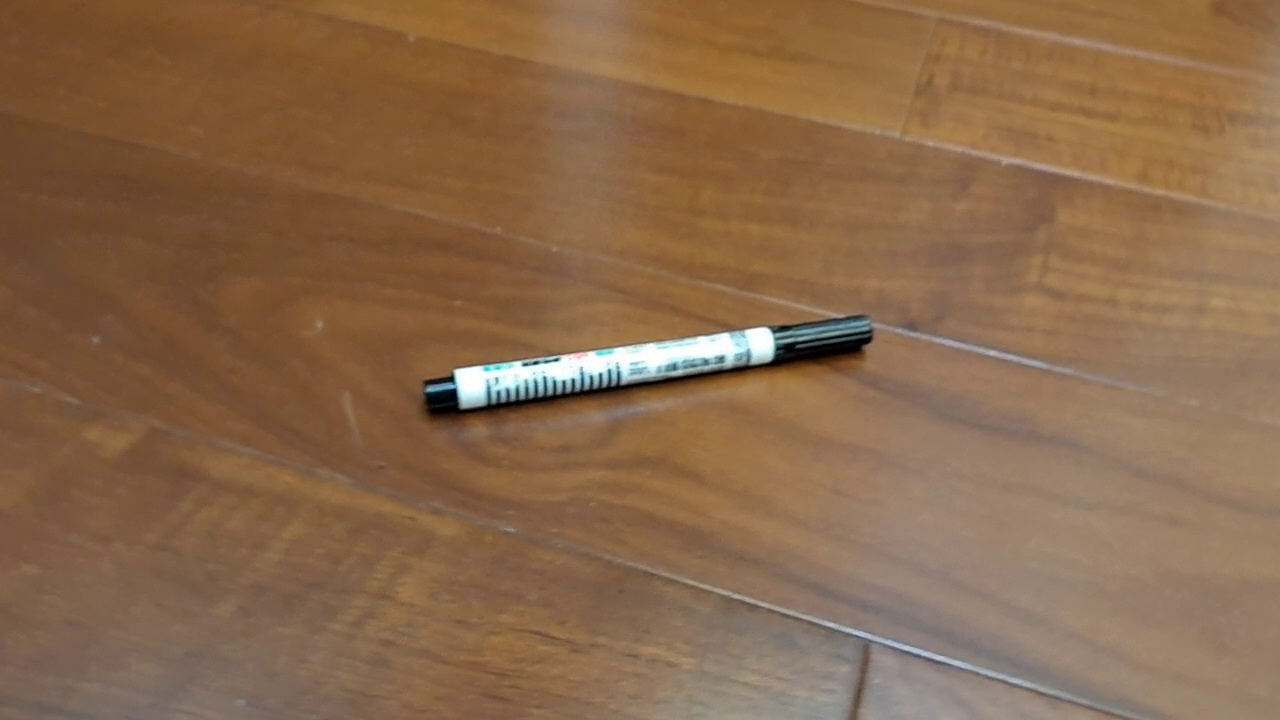pen: (421, 314, 875, 417)
